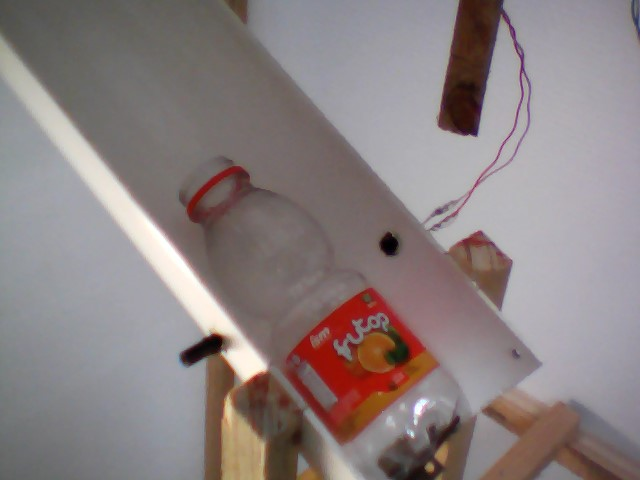plastico: (171, 146, 468, 480)
